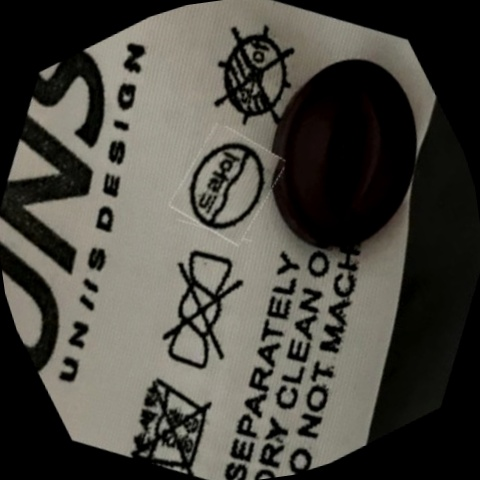DN_dry: (186, 8, 323, 145)
DN_wring: (126, 235, 280, 389)
dry_clean: (166, 122, 290, 249)
hand_wash: (104, 352, 236, 480)
